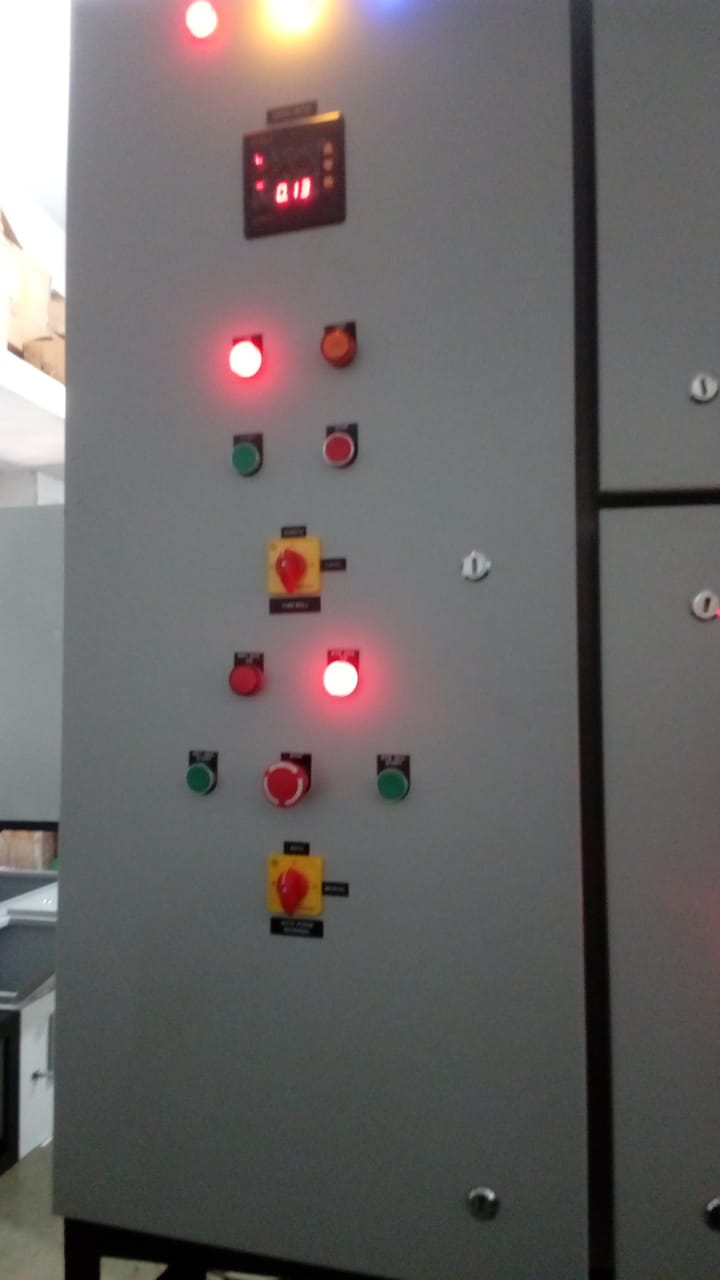Green_Led_Off: (210, 418, 290, 498), (357, 742, 433, 824), (165, 741, 235, 813)
Red_Led_Off: (210, 635, 283, 714), (307, 412, 379, 487), (310, 309, 379, 381)
Red_Led_On: (208, 320, 286, 400), (304, 641, 386, 716), (167, 3, 232, 53)
Yellow_Led_On: (252, 1, 329, 45)
